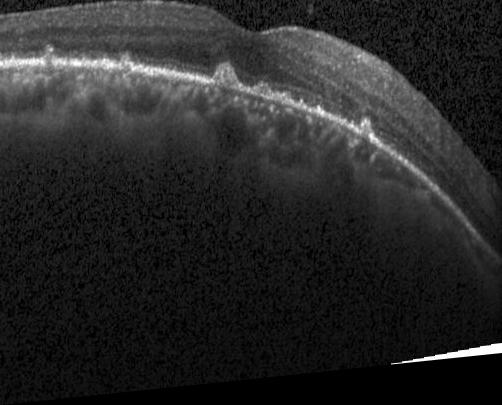retinal_drusen: (213, 70, 240, 95), (250, 88, 271, 104), (358, 128, 371, 146), (42, 51, 53, 69), (119, 61, 131, 73), (278, 99, 289, 111), (309, 114, 319, 122), (296, 107, 304, 114)
